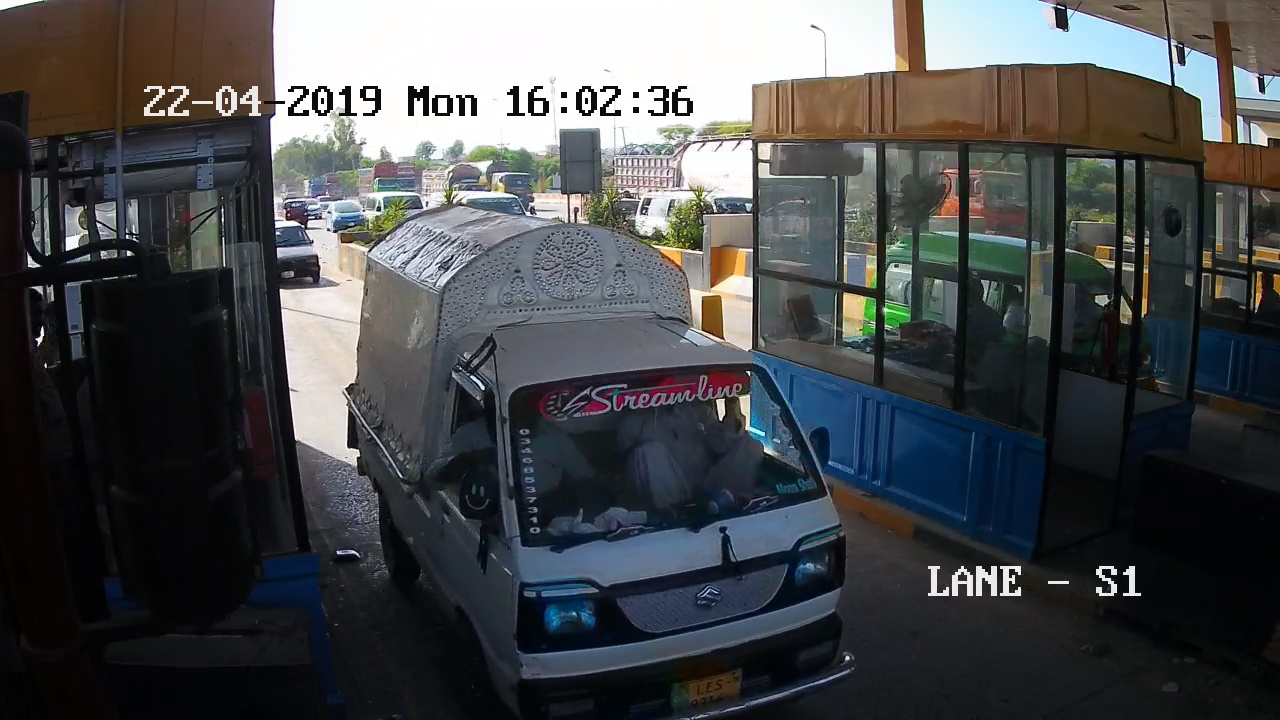car: (345, 222, 871, 720), (273, 228, 323, 285)
